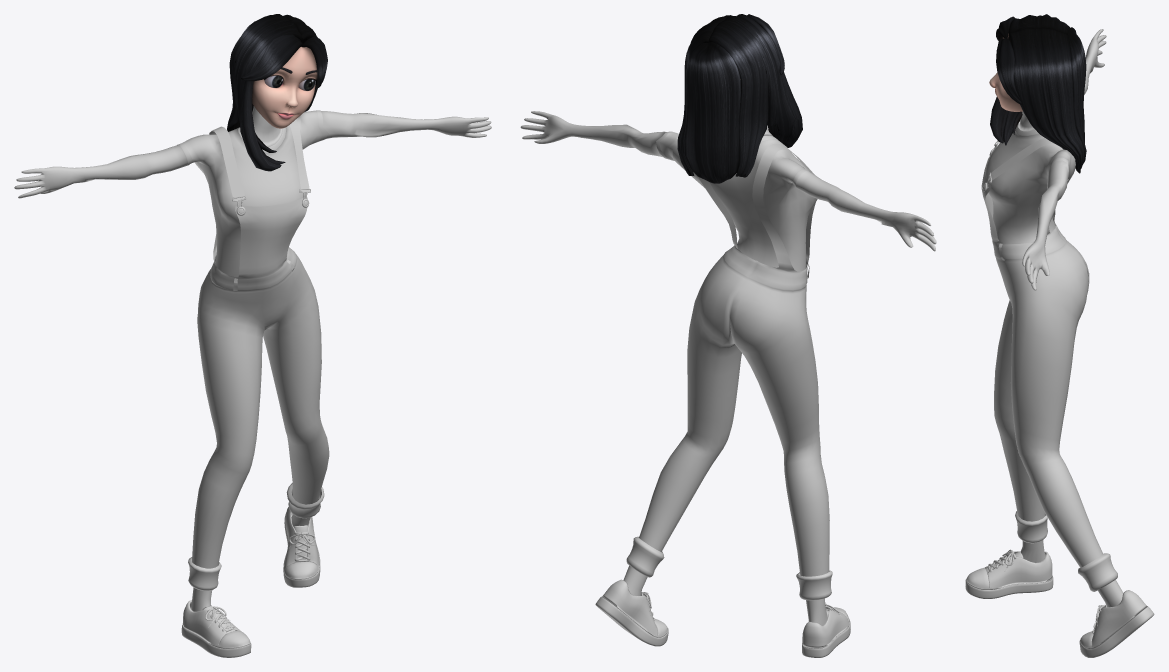
3 renders of one model, left to right at view 1: azimuth 30°, elevation 25°; view 2: azimuth 150°, elevation 25°; view 3: azimuth 270°, elevation 25°, orthographic. The views are drawn at different scales.
Parts seen in each view (by area): view 1: Body, Head; view 2: Body, Head; view 3: Body, Head.
Boxes of the visible parts, x1,y1,x2,y2 form: Body: (14,106,491,657); Head: (227,14,327,171); Body: (520,111,936,657); Head: (677,14,802,183); Body: (965,29,1154,657); Head: (989,14,1086,173).
Bounding box in the file's own units: 496 × 642 × 180.
